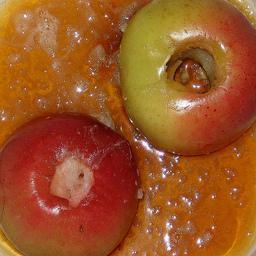apple: (1, 112, 138, 256), (121, 1, 245, 160)
